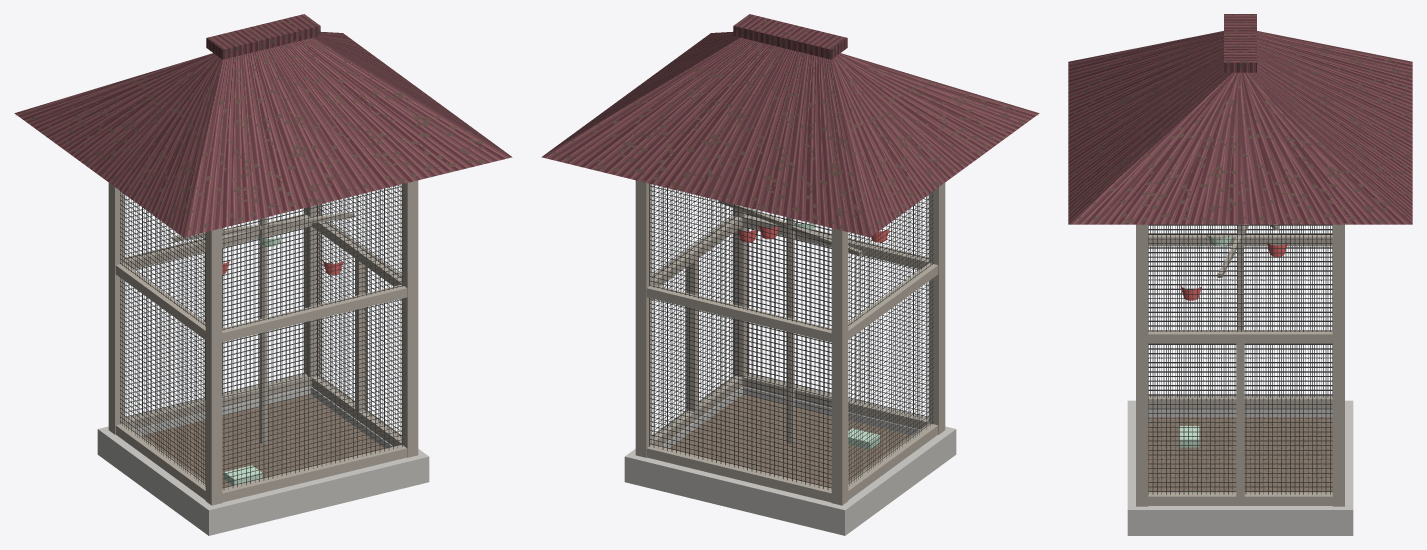
File: kandang_burung.glb
3 renders of one model, left to right at view 1: azimuth 30°, elevation 25°; view 2: azimuth 150°, elevation 25°; view 3: azimuth 270°, elevation 25°, orthographic.
Parts seen in each view (by area): view 1: Atap_Seng_Marun_Gelombang, Kawat_Ram_Kandang, Rangka_Kayu_Kandang, Pondasi_Beton_Kandang, Alas_Pasir_Kandang, Wadah_Air_HijauMuda; view 2: Atap_Seng_Marun_Gelombang, Kawat_Ram_Kandang, Rangka_Kayu_Kandang, Pondasi_Beton_Kandang, Alas_Pasir_Kandang, Wadah_Air_HijauMuda; view 3: Atap_Seng_Marun_Gelombang, Kawat_Ram_Kandang, Rangka_Kayu_Kandang, Alas_Pasir_Kandang, Pondasi_Beton_Kandang, Wadah_Air_HijauMuda, Wadah_Makan_Merah.
Part boxes in pixels (x1,y1,x2,y2): Atap_Seng_Marun_Gelombang: (14,14,512,237); Kawat_Ram_Kandang: (120,184,404,490); Rangka_Kayu_Kandang: (108,180,418,505); Pondasi_Beton_Kandang: (97,386,429,535); Alas_Pasir_Kandang: (141,394,383,488); Wadah_Air_HijauMuda: (224,235,281,485); Atap_Seng_Marun_Gelombang: (541,14,1039,237); Kawat_Ram_Kandang: (649,183,933,489); Rangka_Kayu_Kandang: (635,180,945,505); Pondasi_Beton_Kandang: (624,386,956,535); Alas_Pasir_Kandang: (669,394,912,488); Wadah_Air_HijauMuda: (794,223,879,449); Atap_Seng_Marun_Gelombang: (1068,14,1412,224); Kawat_Ram_Kandang: (1148,224,1332,494); Rangka_Kayu_Kandang: (1136,224,1344,506); Alas_Pasir_Kandang: (1148,417,1332,492); Pondasi_Beton_Kandang: (1127,400,1353,535); Wadah_Air_HijauMuda: (1179,235,1232,447); Wadah_Makan_Merah: (1180,241,1288,300).
Size of the model in its own units: 1.88 by 2.38 by 1.68.
9 materials, 4 textured.
